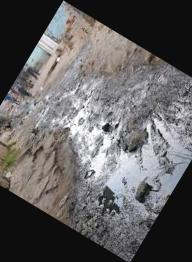Stagnant water: (0, 1, 192, 262)
